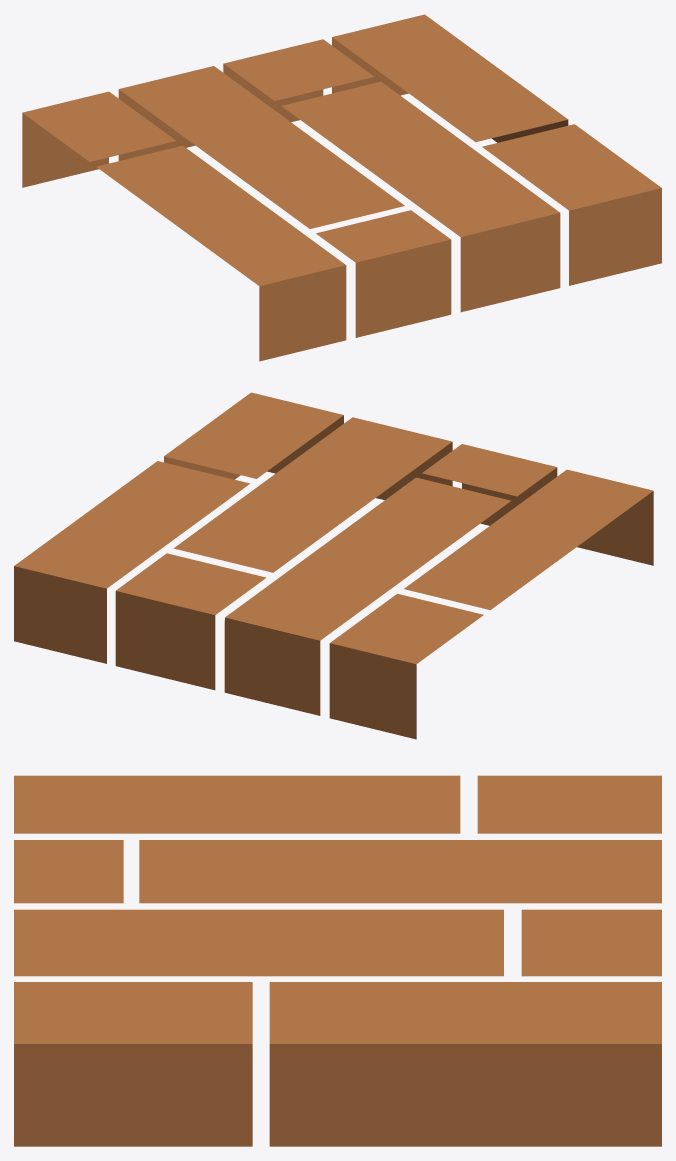
Rendered from g_t_FloorWood.fbx.
The picture shows the model from 3 angles, top to bottom: view 1: azimuth 30°, elevation 25°; view 2: azimuth 150°, elevation 25°; view 3: azimuth 270°, elevation 25°; orthographic projection. The views are drawn at different scales.
Visible parts, largest first — view 1: g_t_CeramicFloor44; view 2: g_t_CeramicFloor44; view 3: g_t_CeramicFloor44.
Boxes of the visible parts, box(x1,y1,x2,y2) form: g_t_CeramicFloor44: box(22, 14, 661, 361); g_t_CeramicFloor44: box(14, 392, 653, 739); g_t_CeramicFloor44: box(14, 775, 661, 1146).
Size of the model in its own units: 1 by 0.175 by 1.
